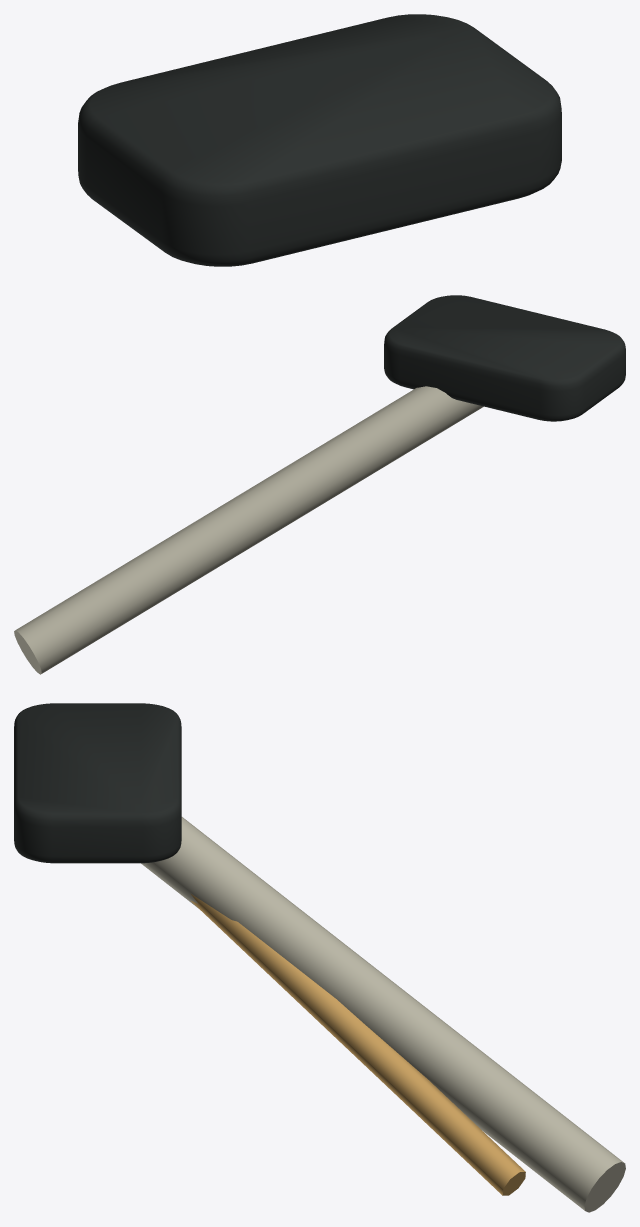
The model's file is Continental.glb.
3 renders of one model, top to bottom at view 1: azimuth 30°, elevation 25°; view 2: azimuth 150°, elevation 25°; view 3: azimuth 270°, elevation 25°, orthographic. The views are drawn at different scales.
Visible parts, largest first — view 1: Palm pad; view 2: Return arm, Palm pad; view 3: Return arm, Palm pad, Counter lever.
Boxes of the visible parts, bbox=[...] form: Palm pad: bbox=[78, 14, 561, 266]; Return arm: bbox=[14, 386, 483, 674]; Palm pad: bbox=[384, 295, 625, 421]; Return arm: bbox=[141, 817, 625, 1212]; Palm pad: bbox=[14, 703, 181, 863]; Counter lever: bbox=[190, 893, 525, 1195].
Size of the model in its own units: 0.7044 by 0.435 by 0.8082.
